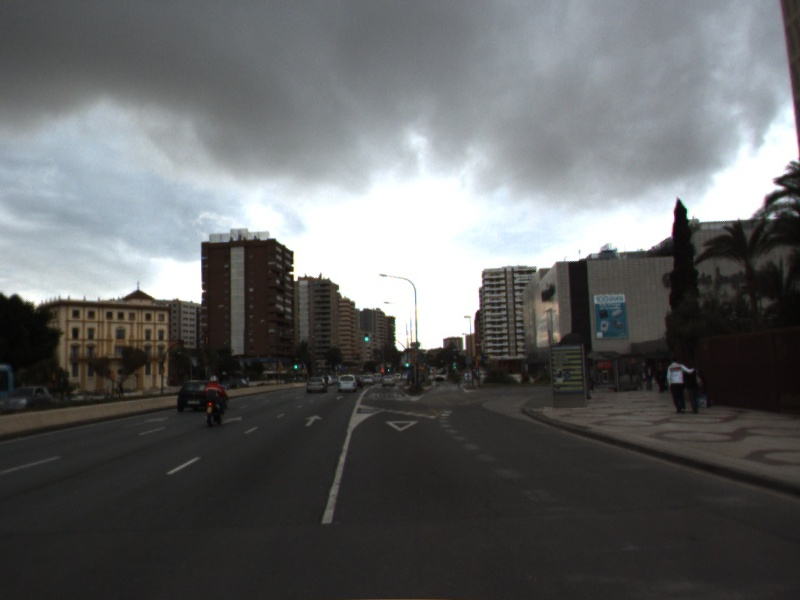STRAIGHT: (301, 413, 324, 428), (218, 414, 244, 425)
